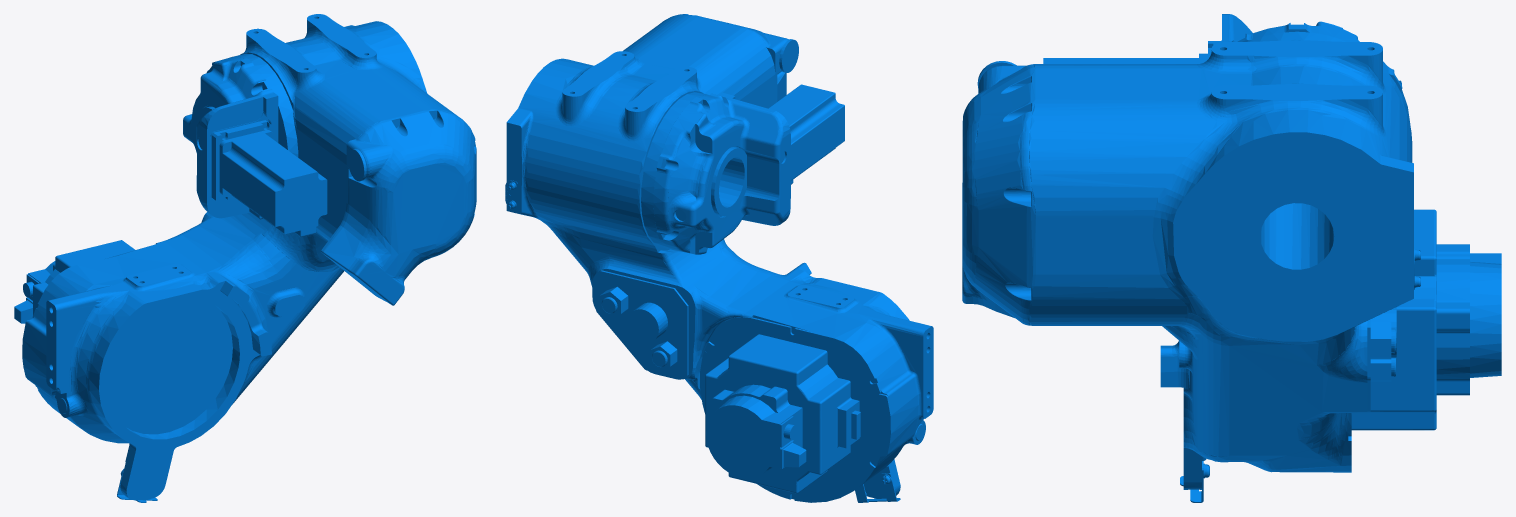
The model's file is u_axis.dae.
The picture shows the model from 3 angles, left to right: view 1: azimuth 30°, elevation 25°; view 2: azimuth 150°, elevation 25°; view 3: azimuth 270°, elevation 25°; orthographic projection. The views are drawn at different scales.
Visible parts, largest first — view 1: U_Axis; view 2: U_Axis; view 3: U_Axis.
Part boxes in pixels (<box>): U_Axis: <box>14,14,476,502</box>; U_Axis: <box>505,14,933,502</box>; U_Axis: <box>962,14,1501,502</box>.
Bounding box in the file's own units: 0.41 × 0.3655 × 0.4249.
